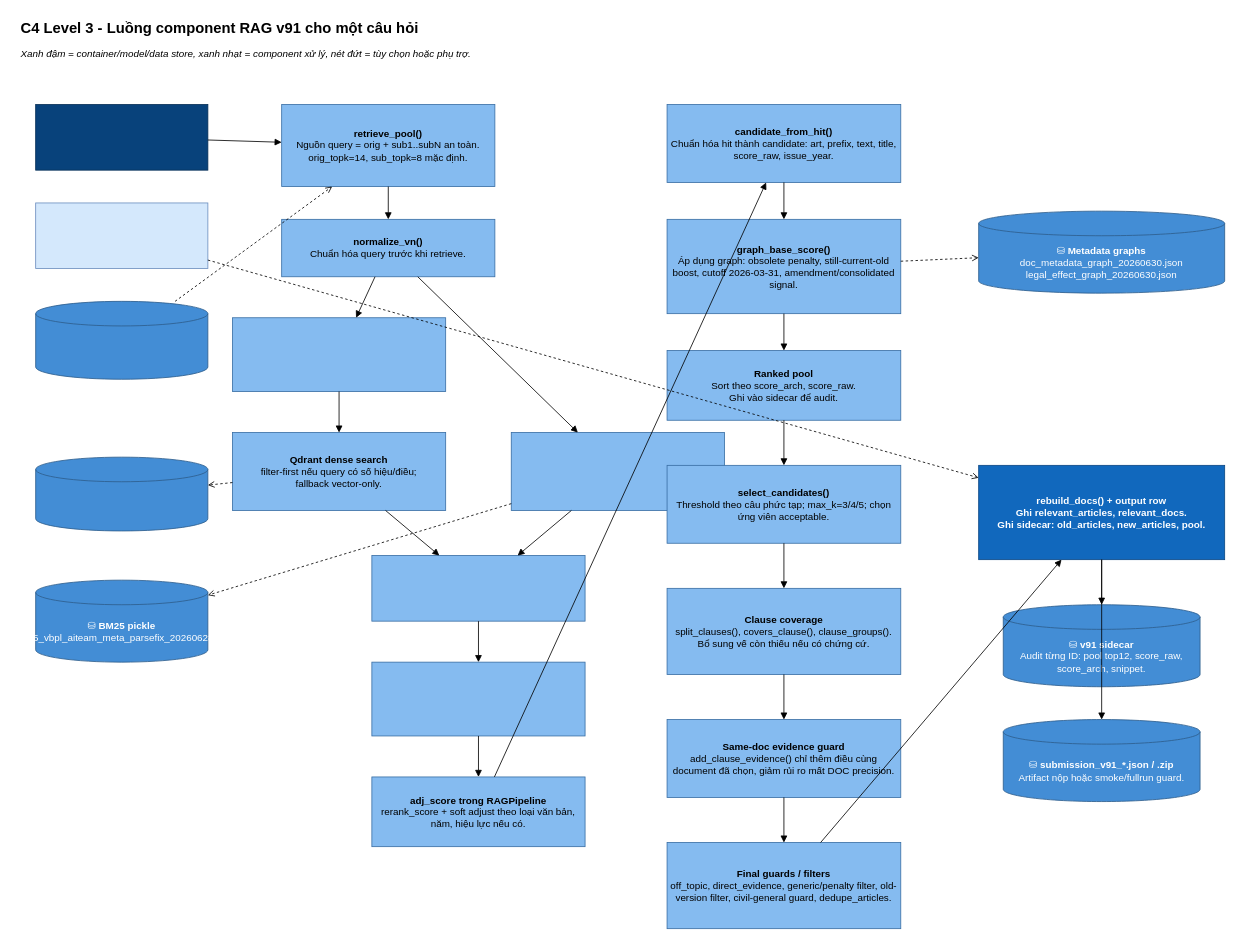
The diagram is 1239 pixels wide and 943 high, and some of its shapes have lost their labels. Each missing label, with the box of its shape:
Base submission row Giữ ID ngoài target; target IDs được rebuild.: (35, 202, 208, 269)
BM25Index.search() Lexical search cho số văn bản, điều, thuật ngữ pháp lý.: (510, 432, 724, 510)
EmbeddingClient.embed_one() AITeamVN/Vietnamese_Embedding_v2 Vector 1024d.: (232, 317, 446, 392)
Question Câu hỏi pháp lý, có thể nhiều vế.: (35, 104, 208, 170)
reranker.rerank() AITeamVN/Vietnamese_Reranker Gán rerank_score cho từng hit.: (371, 661, 585, 736)
Union dense ∪ BM25 Dedup ứng viên theo hit id hoặc so_ky_hieu#dieu_so.: (371, 555, 585, 621)
⛁ Qdrant vbpl_aiteam_meta_parsefix_20260628: (35, 456, 208, 531)
⛁ subqueries.json Chỉ dùng nếu câu hỏi phức tạp và subquery pass safe_subquery.: (35, 301, 208, 379)
